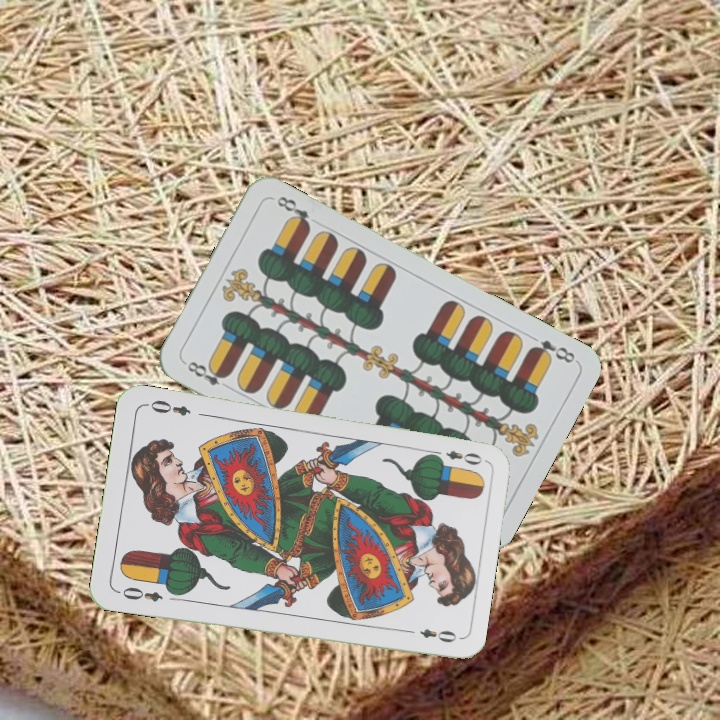E8: (180, 357, 232, 389), (525, 335, 578, 366)
EO: (427, 446, 485, 468), (113, 583, 165, 605)
